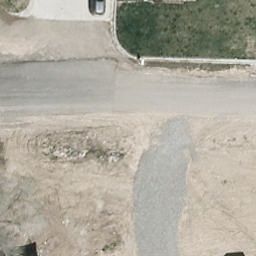car: (89, 0, 107, 17)
